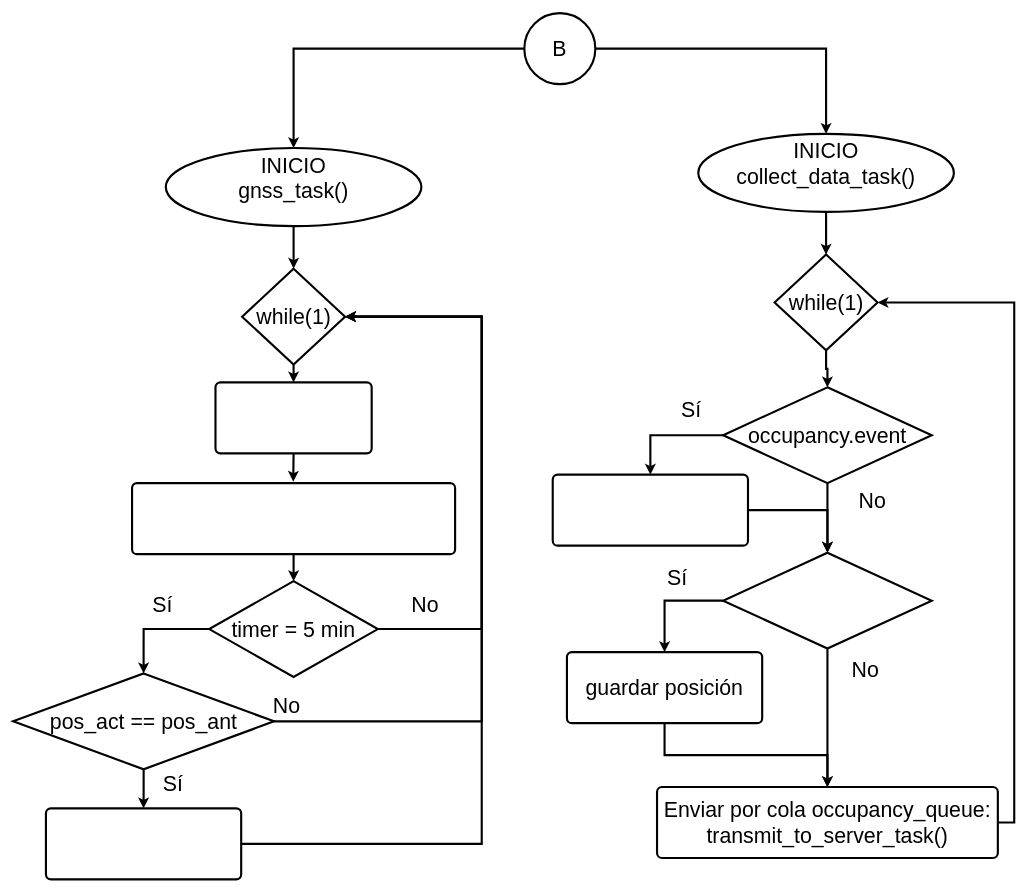
This 1033x892 diagram has some shape labels left out. Each missing label, with the centre of its shape:
"Entrar en modo ahorro de energía" belongs at point (143, 843).
"Enviar por cola position_queue: collect_data_task()" belongs at point (293, 518).
"guardar ocupación" belongs at point (650, 509).
"position.event" belongs at point (827, 600).
"Procesar tramas NMEA" belongs at point (293, 417).
